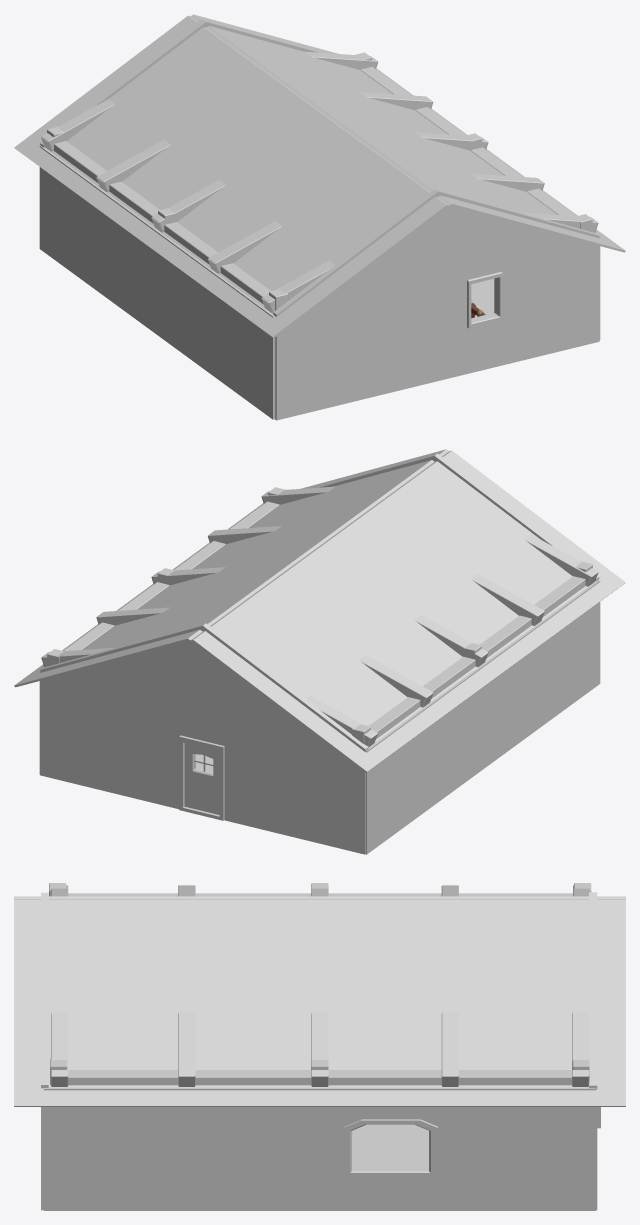
File: Lobby_LevelDesign.fbx
The picture shows the model from 3 angles, top to bottom: view 1: azimuth 30°, elevation 25°; view 2: azimuth 150°, elevation 25°; view 3: azimuth 270°, elevation 25°; orthographic projection. The views are drawn at different scales.
Visible parts, largest first — view 1: Roof, Cube.001, WallA_02.001, House_Frame_Pillar, WallA_Door, Cube.002, Floor; view 2: Roof, WallA_Door, WallA_02.001, House_Frame_Pillar, Cube.001; view 3: Roof, WallB_Window, House_Frame_Pillar, WindowA, Floor, WallA_Door, Cube.001, Carpet_Green_Paw.
Boxes of the visible parts, x1,y1,x2,y2 form: Roof: (14,14,625,337); Cube.001: (273,189,599,420); WallA_02.001: (39,145,275,419); House_Frame_Pillar: (41,51,598,312); WallA_Door: (40,19,325,147); Cube.002: (467,272,502,328); Floor: (471,278,494,314); Roof: (14,449,625,772); WallA_Door: (40,623,368,854); WallA_02.001: (366,580,600,854); House_Frame_Pillar: (41,486,598,746); Cube.001: (313,453,599,581); Roof: (14,896,625,1106); WallB_Window: (44,1087,595,1210); House_Frame_Pillar: (49,883,591,1086); WindowA: (344,1119,437,1176); Floor: (352,1124,405,1166); WallA_Door: (589,892,600,1210); Cube.001: (41,892,48,1210); Carpet_Green_Paw: (405,1124,428,1165).
Size of the model in its own units: 12.57 by 6.45 by 15.95.
